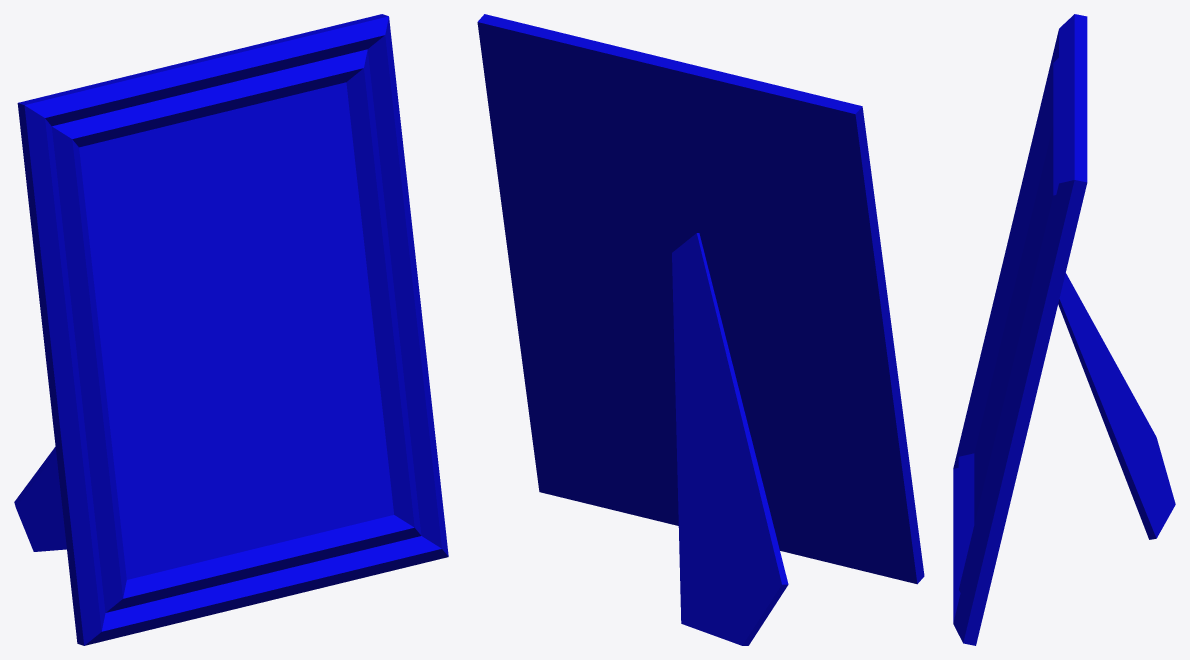
The model's file is pictureFrame2.fbx.
The picture shows the model from 3 angles, left to right: view 1: azimuth 30°, elevation 25°; view 2: azimuth 150°, elevation 25°; view 3: azimuth 270°, elevation 25°; orthographic projection. The views are drawn at different scales.
Visible parts, largest first — view 1: pictureFrame2; view 2: pictureFrame2; view 3: pictureFrame2.
Part boxes in pixels (x1,y1,x2,y2): pictureFrame2: (14,14,448,645); pictureFrame2: (477,14,924,645); pictureFrame2: (953,14,1175,645).
Bounding box in the file's own units: 15 × 19.71 × 8.5.
